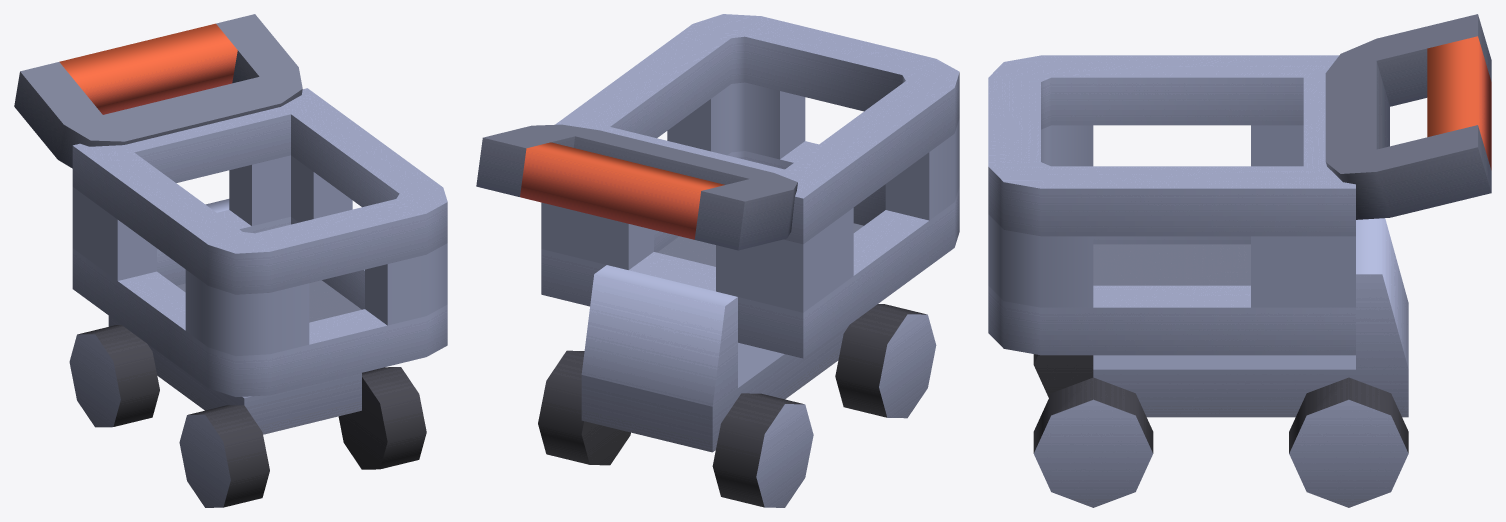
The model's file is shopping-cart.glb.
3 views of the same model, side by side, from view 1: azimuth 30°, elevation 25°; view 2: azimuth 150°, elevation 25°; view 3: azimuth 270°, elevation 25° (orthographic). The views are drawn at different scales.
Visible parts, largest first — view 1: shopping-cart; view 2: shopping-cart; view 3: shopping-cart.
Boxes of the visible parts, x1=… form: shopping-cart: x1=14, y1=14, x2=447, y2=507; shopping-cart: x1=476, y1=14, x2=959, y2=507; shopping-cart: x1=988, y1=14, x2=1491, y2=507.
Size of the model in its own units: 0.3 by 0.3906 by 0.4789.
Materials: 1 (1 with a texture image).
